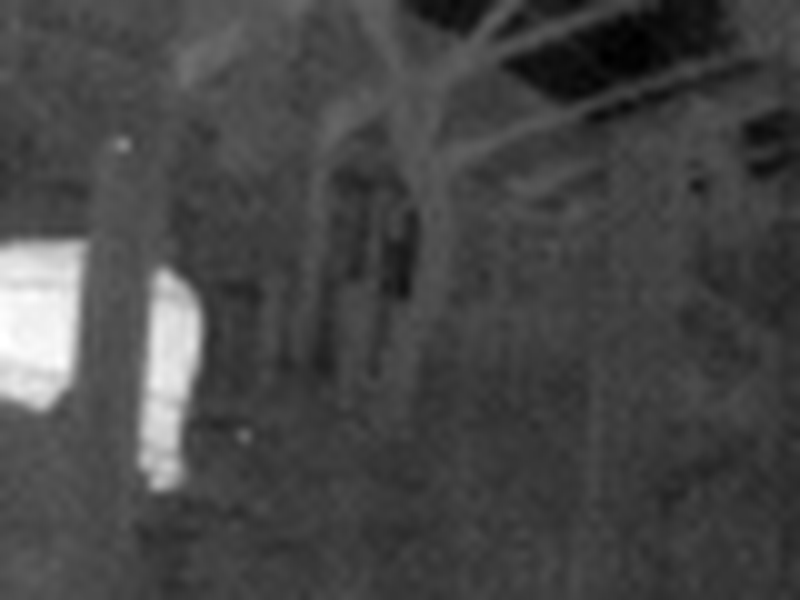elephant: (1, 234, 194, 509)
